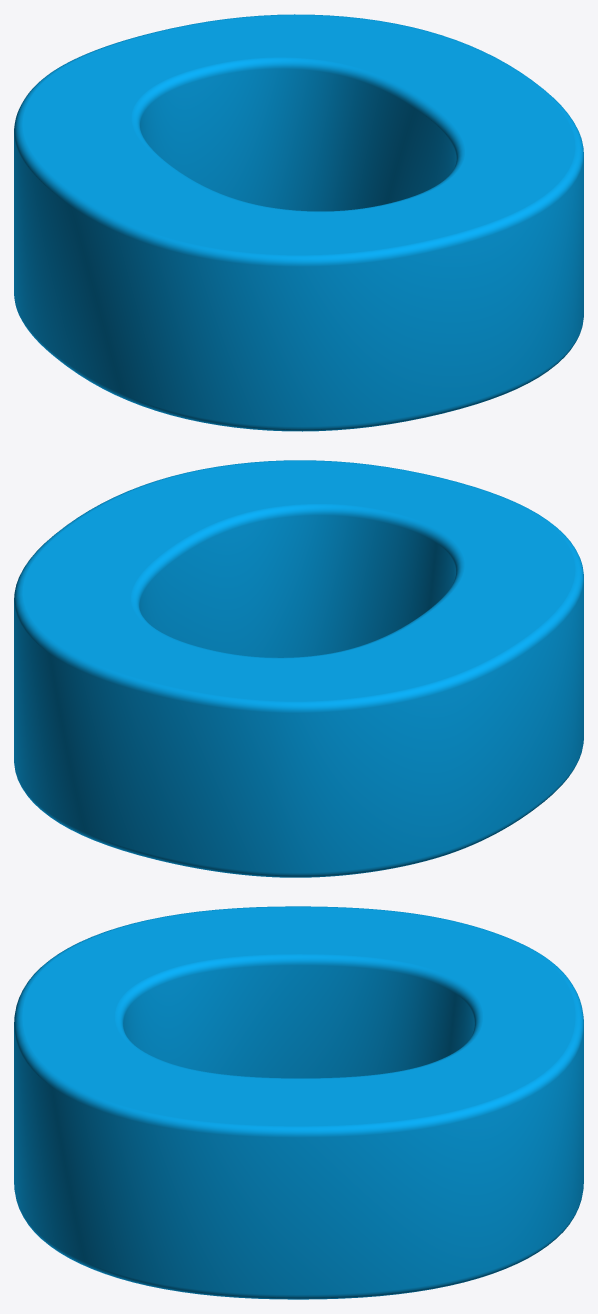
3 renders of one model, top to bottom at view 1: azimuth 30°, elevation 25°; view 2: azimuth 150°, elevation 25°; view 3: azimuth 270°, elevation 25°, orthographic.
Parts seen in each view (by area): view 1: \u041e; view 2: \u041e; view 3: \u041e.
Boxes of the visible parts, x1,y1,x2,y2 form: \u041e: [14, 14, 583, 431]; \u041e: [14, 460, 583, 877]; \u041e: [14, 906, 583, 1299].
Bounding box in the file's own units: 0.5008 × 0.178 × 0.5329.
